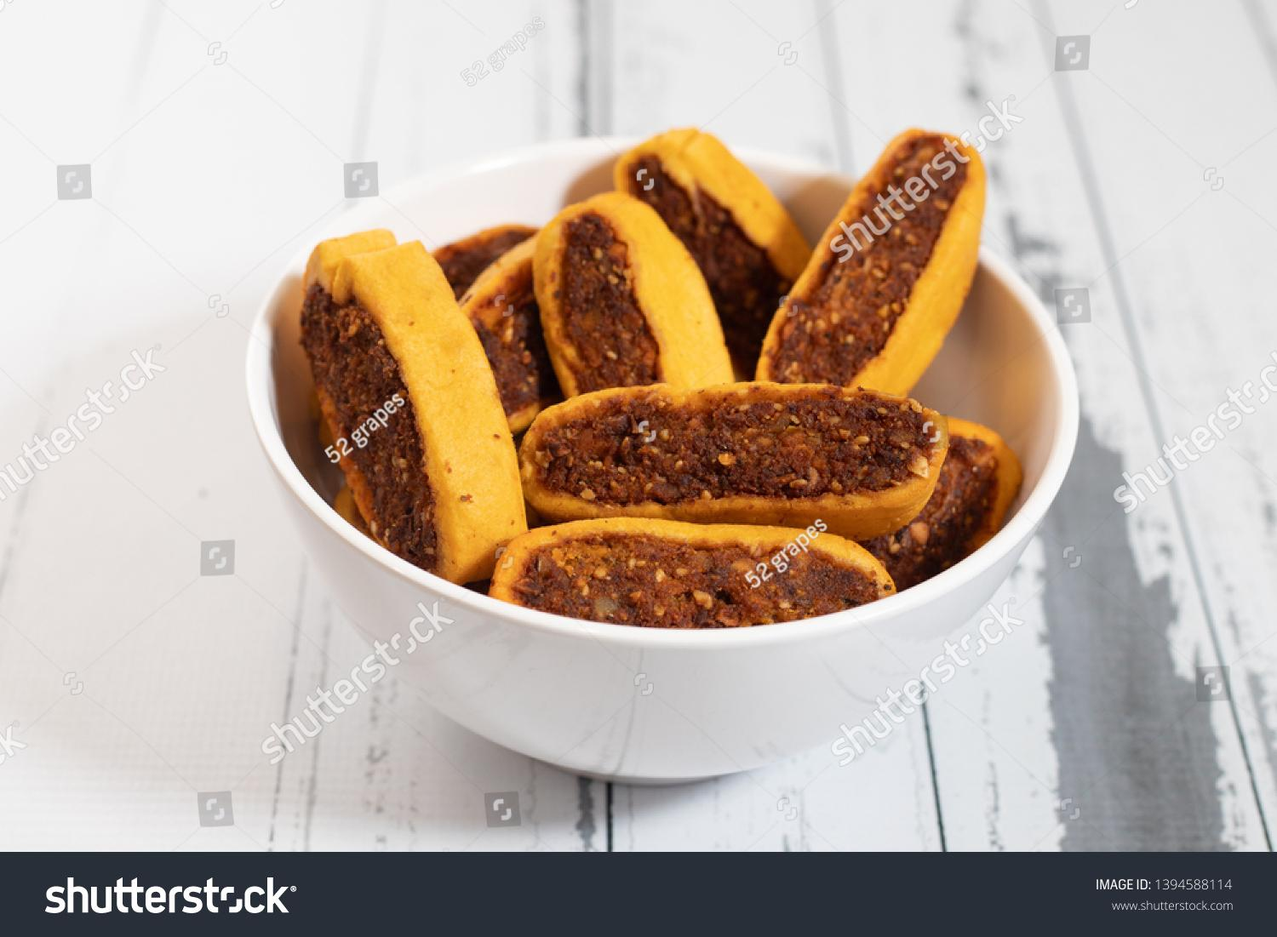bhakarwadi: (296, 194, 1034, 622)
